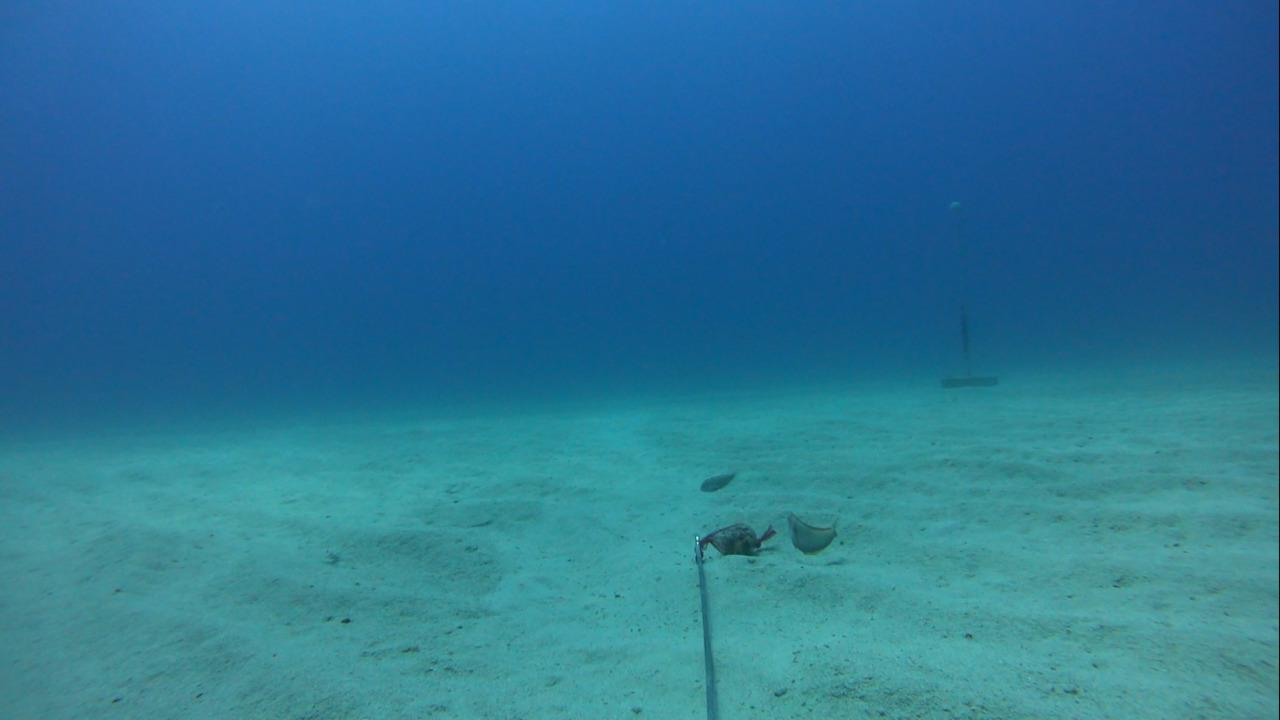raor: (780, 505, 850, 563), (690, 462, 749, 498)
